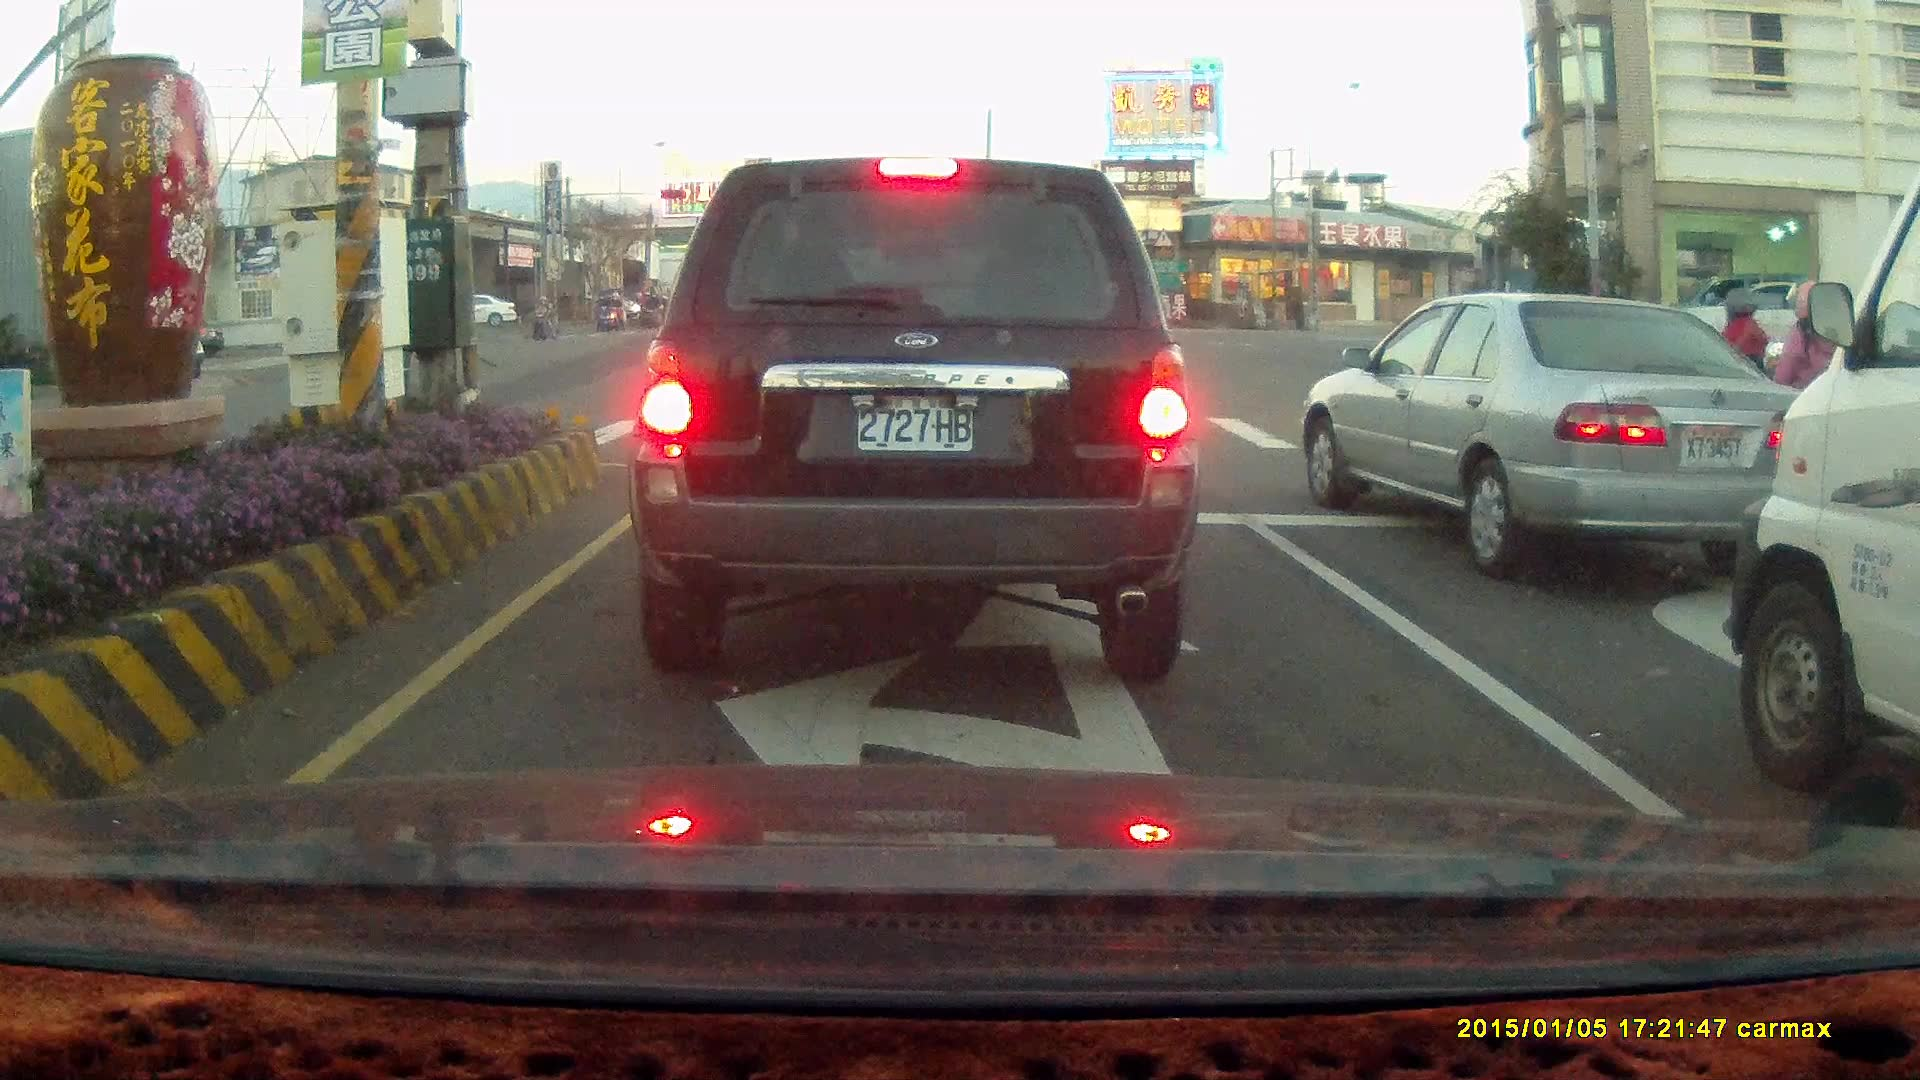rider: (1679, 272, 1920, 552), (526, 289, 558, 339), (592, 289, 613, 330), (641, 289, 662, 326), (604, 293, 625, 329)
vehicle: (626, 153, 1197, 684), (1298, 289, 1826, 583), (1308, 291, 1817, 573), (1729, 161, 1920, 796), (1648, 273, 1858, 373), (1668, 275, 1823, 373)
